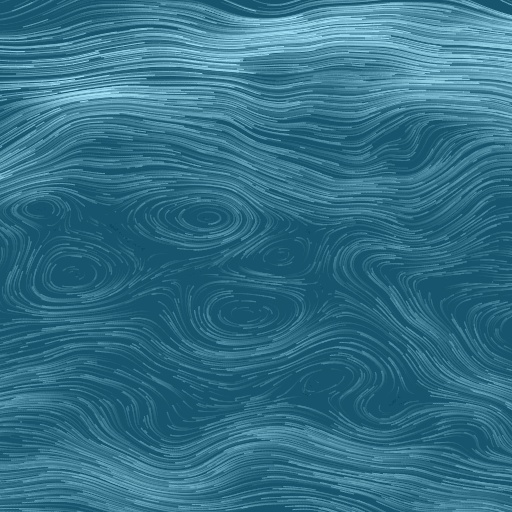eddy: (192, 284, 306, 349), (143, 190, 251, 248), (27, 240, 117, 306), (299, 362, 347, 401), (18, 192, 65, 221), (260, 242, 295, 269)
